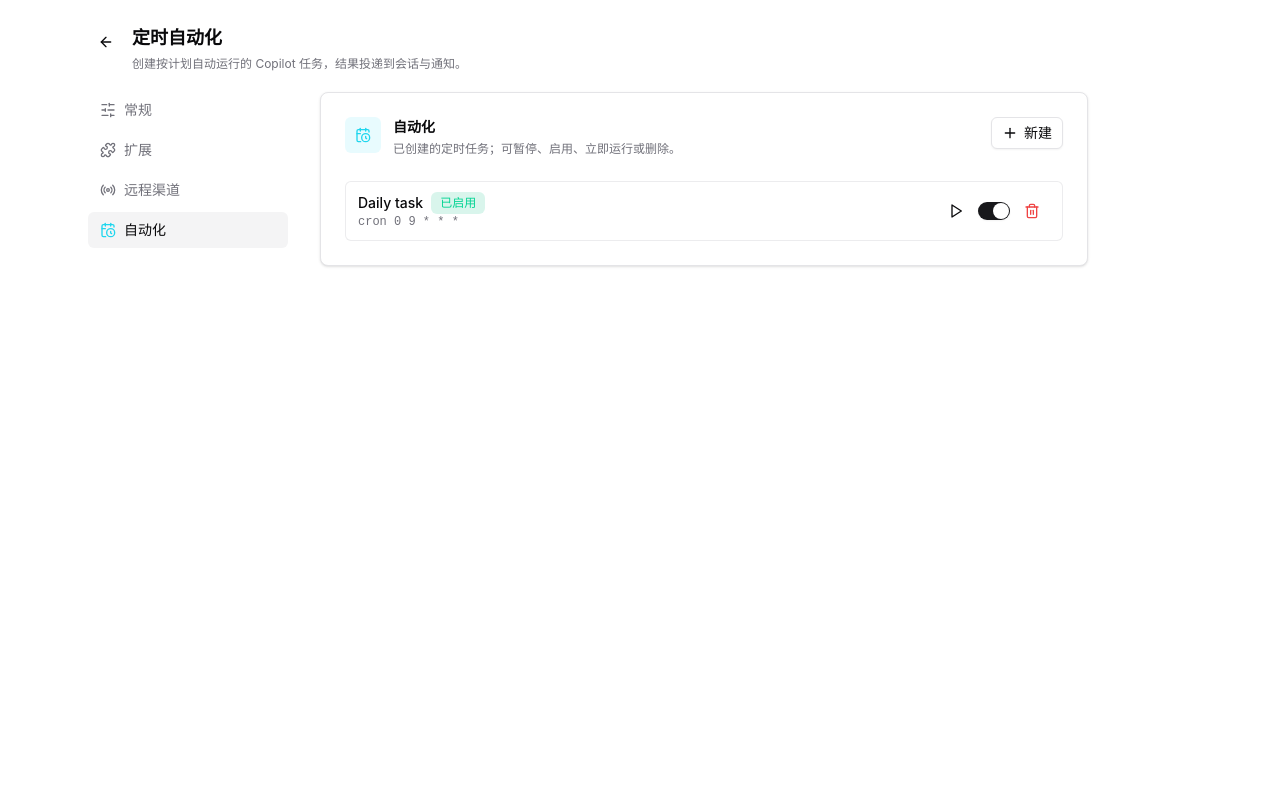
it: reports failed automation deletion and keeps its row
The width and height of the screenshot is (1280, 800).
Check: the text "Daily task" is shown, box [358,194,423,211]
Click the button named "删除" at [1032, 211], box [1014,193,1050,229]
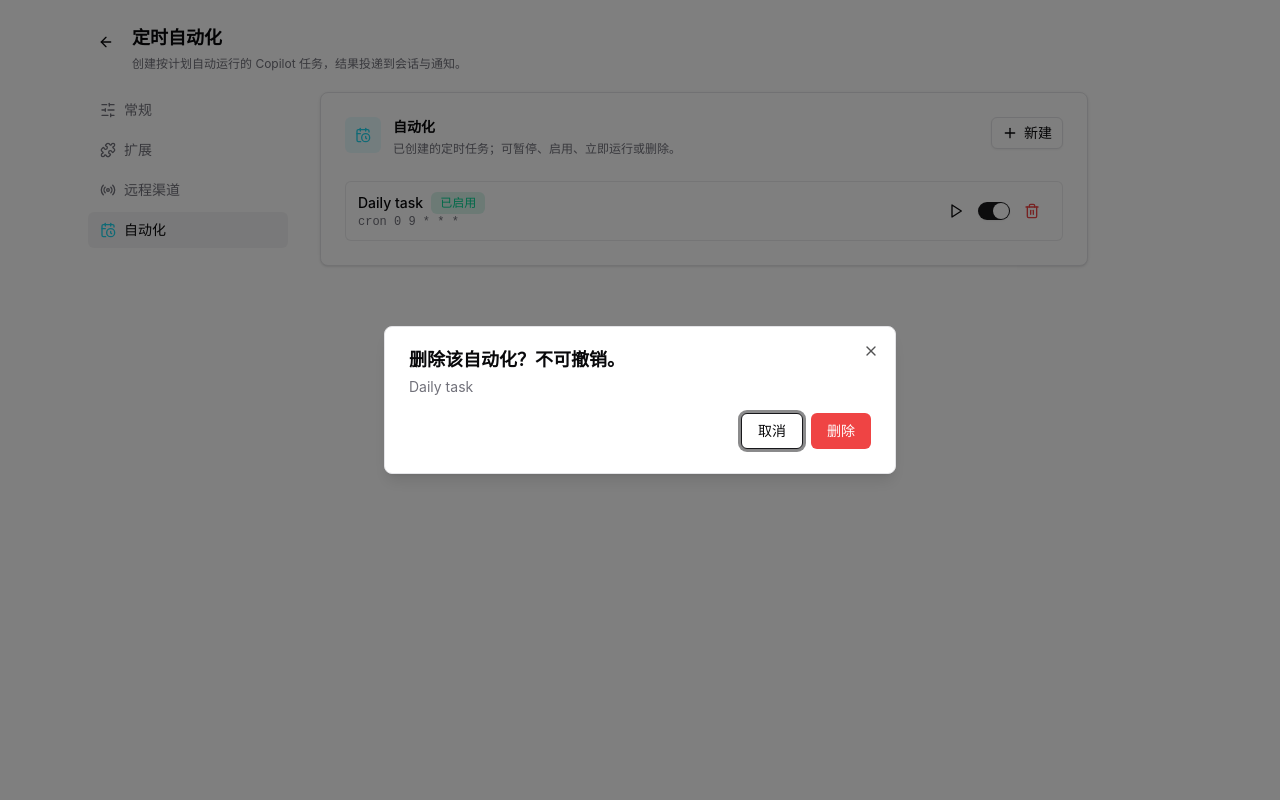
Click the button "删除" at [841, 431], box [811,413,871,449]
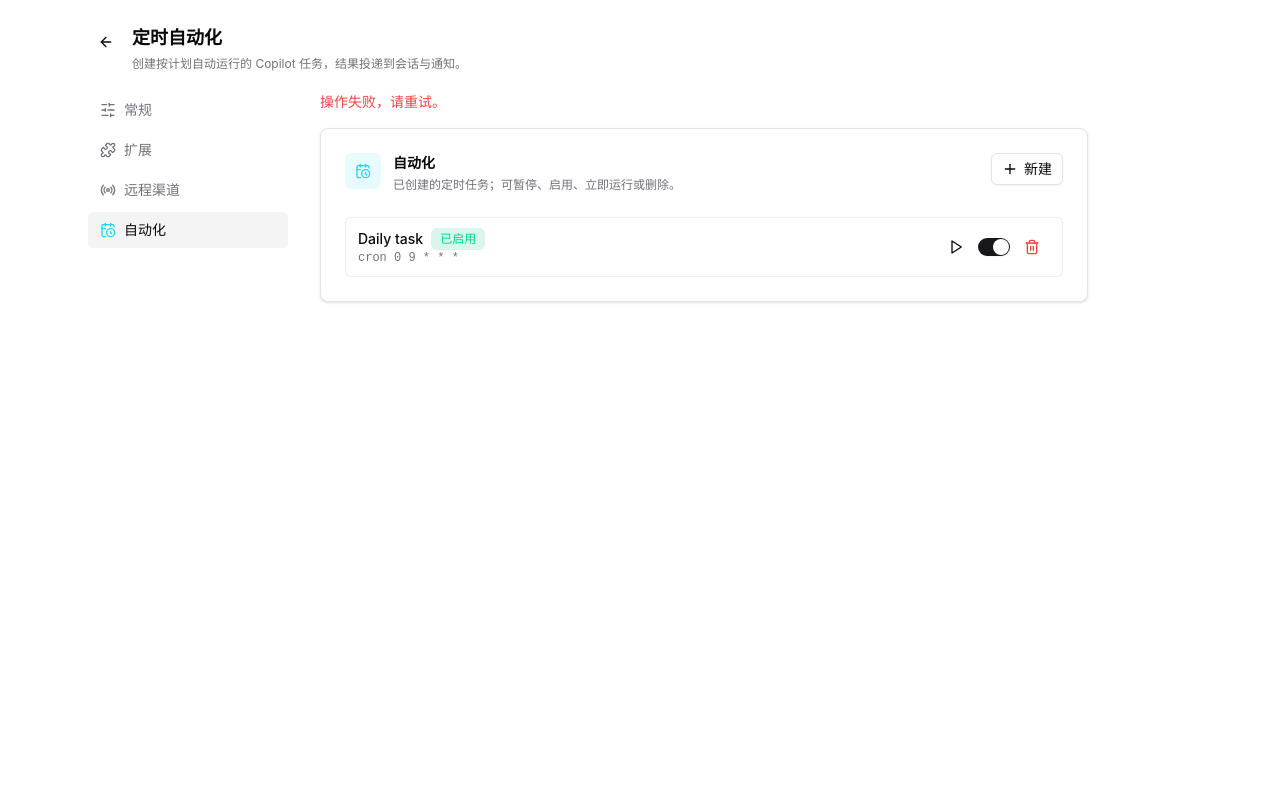
Check: the text "Daily task" is shown, box [358,230,423,247]
Check: the message shows "操作失败", box [320,93,446,110]
